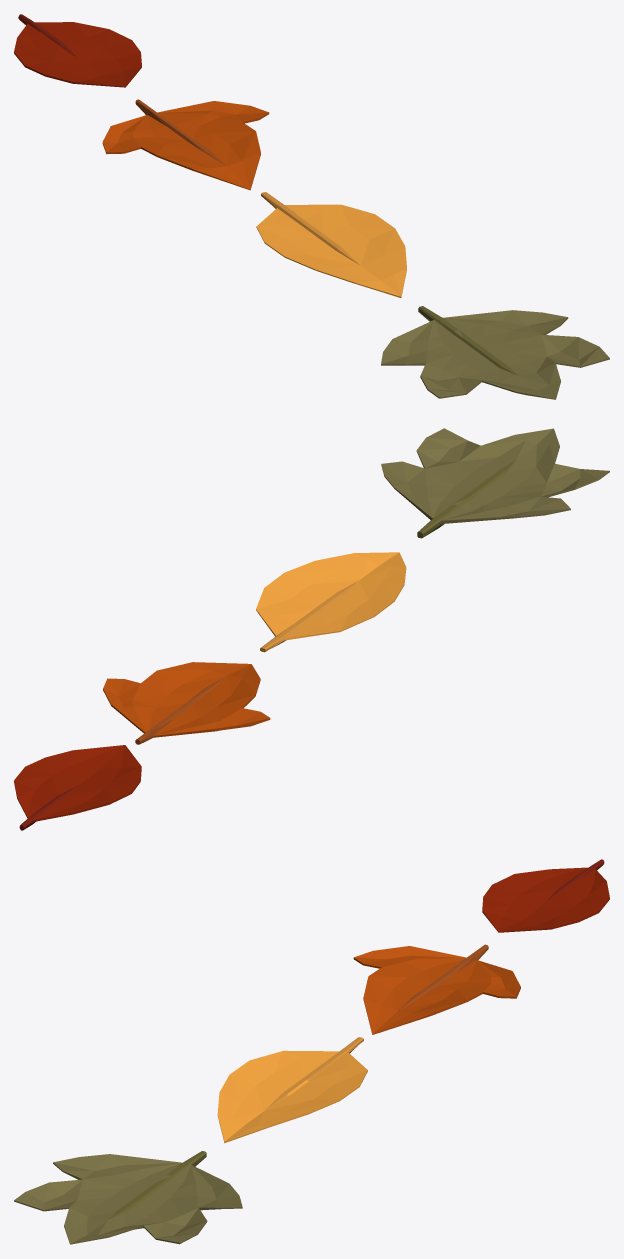
The model's file is leaves.fbx.
3 views of the same model, one above another, from view 1: azimuth 30°, elevation 25°; view 2: azimuth 150°, elevation 25°; view 3: azimuth 330°, elevation 25° (orthographic).
Parts seen in each view (by area): view 1: SM_leaf_04_BA, SM_leaf_03_BA, SM_leaf_02_BA, SM_leaf_01_BA; view 2: SM_leaf_04_BA, SM_leaf_03_BA, SM_leaf_02_BA, SM_leaf_01_BA; view 3: SM_leaf_04_BA, SM_leaf_03_BA, SM_leaf_02_BA, SM_leaf_01_BA.
Boxes of the visible parts, x1,y1,x2,y2 form: SM_leaf_04_BA: (381, 306, 609, 399); SM_leaf_03_BA: (256, 192, 406, 297); SM_leaf_02_BA: (102, 99, 269, 190); SM_leaf_01_BA: (14, 14, 141, 87); SM_leaf_04_BA: (381, 428, 609, 538); SM_leaf_03_BA: (256, 552, 406, 652); SM_leaf_02_BA: (103, 662, 270, 744); SM_leaf_01_BA: (14, 745, 141, 830); SM_leaf_04_BA: (14, 1151, 242, 1244); SM_leaf_03_BA: (217, 1037, 367, 1143); SM_leaf_02_BA: (353, 944, 520, 1034); SM_leaf_01_BA: (482, 859, 609, 932).
Size of the model in its own units: 14.39 by 1.27 by 70.54.
